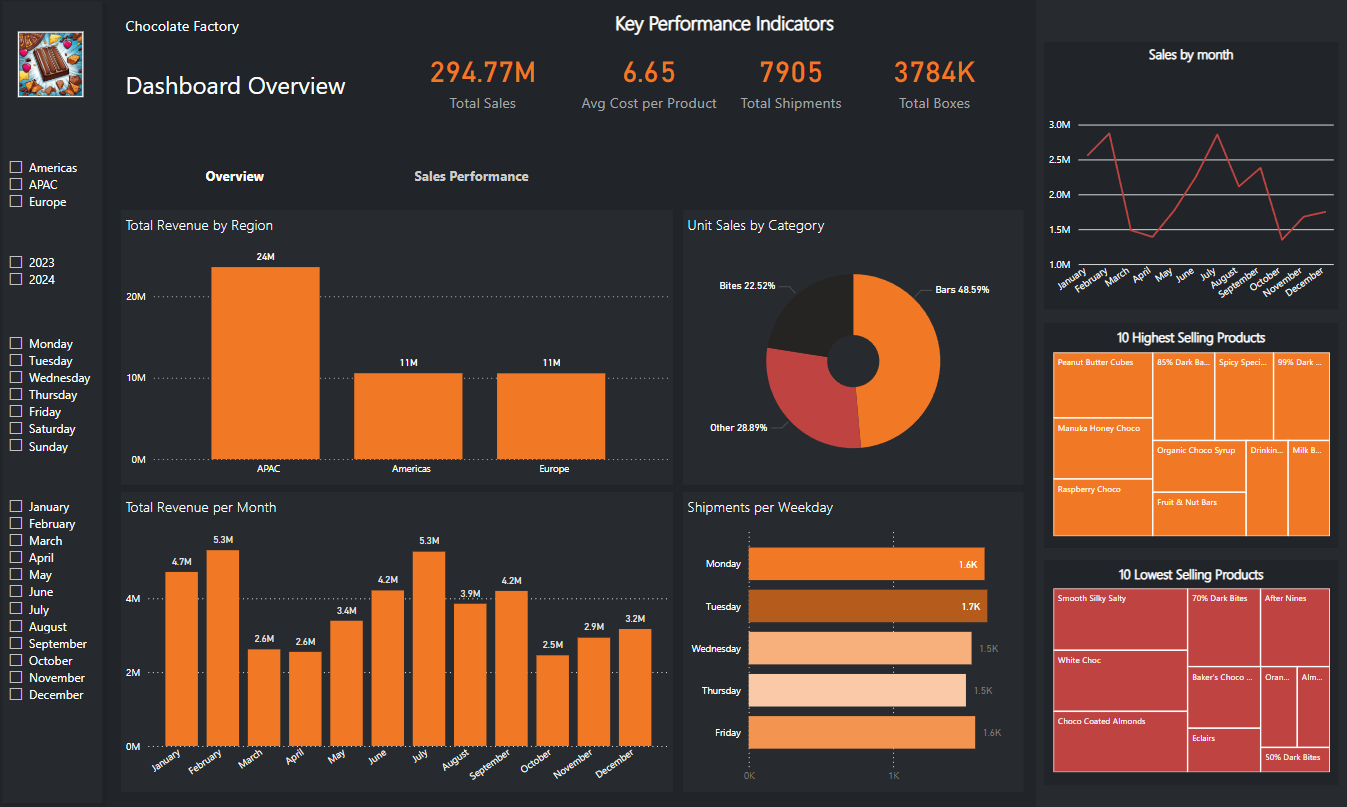

What the dashboard file says about the page in this screenshot:
{"tool":"powerbi","page":{"name":"Overview","canvas":[1500,900],"ordinal":0},"visuals":[{"type":"shape","box":[1153.5,0,346.5,900.5],"z":0},{"type":"shape","box":[0,0,120.8,900.5],"z":1000},{"type":"shape","box":[1162.6,625.8,327.1,249.6],"z":2000},{"type":"shape","box":[1162.6,50.2,327.1,297.5],"z":3000},{"type":"shape","box":[1162.6,361.9,327.1,249.6],"z":4000},{"type":"shape","box":[136.8,550.5,613.2,332.8],"z":5000},{"type":"shape","box":[761.4,550.5,378.4,332.8],"z":6000},{"type":"shape","box":[136.8,237.1,613.2,305.5],"z":7000},{"type":"shape","box":[761.4,237.1,378.4,305.5],"z":8000},{"type":"textbox","box":[136.8,72.9,258.7,86.6],"z":9000},{"type":"pageNavigator","box":[136.8,173.3,517.5,50.2],"z":10000},{"type":"textbox","box":[136.8,237.1,189.2,35.3],"z":11000},{"type":"textbox","box":[136.8,550.5,189.2,33.1],"z":12000},{"type":"textbox","box":[761.4,550.5,190.3,33.1],"z":13000},{"type":"textbox","box":[761.4,237.1,180.1,35.3],"z":14000},{"type":"textbox","box":[1162.6,625.8,327.1,36.5],"z":15000},{"type":"textbox","box":[1162.6,47.9,327.1,43.3],"z":16000},{"type":"textbox","box":[1162.6,362.5,327.1,42.2],"z":17000},{"type":"clusteredColumnChart","fields":{"Y":["calendar.Total Amount"],"Category":["calendar.month_name"]},"box":[136.8,580.2,613.2,303.2],"z":18000},{"type":"lineClusteredColumnComboChart","fields":{"Y":["calendar.Total Amount"],"Category":["locations.Region"]},"box":[136.8,266.7,613.2,275.8],"z":19000},{"type":"card","fields":{"Values":["calendar.Avg Cost per Product"]},"box":[632.6,41,182.4,100.3],"z":20000},{"type":"card","fields":{"Values":["calendar.Total Sales"]},"box":[461.6,41,155,100.3],"z":21000},{"type":"card","fields":{"Values":["calendar.Total Shipments"]},"box":[815,41,133.4,100.3],"z":22000},{"type":"card","fields":{"Values":["calendar.Total Boxes"]},"box":[951.7,41,176.7,100.3],"z":23000},{"type":"donutChart","fields":{"Y":["calendar.Total Sales"],"Category":["products.Category"]},"box":[761.4,266.7,378.4,275.8],"z":24000},{"type":"clusteredBarChart","fields":{"Y":["calendar.Shipments per Weekday"],"Category":["calendar.weekday_name"]},"box":[761.4,580.2,378.4,303.2],"z":25000},{"type":"lineChart","fields":{"Y":["_Measures.Sales by Month"],"Category":["calendar.month_name"]},"box":[1162.6,127.7,327.1,220],"z":26000},{"type":"treemap","fields":{"Group":["products.Product"],"Values":["Sum(shipments.Amount)"]},"box":[1168.3,652,316.9,214.3],"z":27000},{"type":"treemap","fields":{"Group":["products.Product"],"Values":["Sum(shipments.Amount)"]},"box":[1168.3,389.8,316.9,214.3],"z":28000},{"type":"slicer","fields":{"Values":["calendar.month_name"]},"box":[0,550.5,120.8,295.2],"z":29000},{"type":"slicer","fields":{"Values":["locations.Region"]},"box":[0,173.3,120.8,106],"z":30000},{"type":"textbox","box":[673.6,9.1,267.9,41],"z":31000},{"type":"slicer","fields":{"Values":["calendar.weekday_name"]},"box":[0,369.3,120.8,173.3],"z":32000},{"type":"slicer","fields":{"Values":["calendar.year"]},"box":[0,279.3,120.8,80.9],"z":33000},{"type":"image","box":[0,33.1,116.3,83.2],"z":33001},{"type":"textbox","box":[136.8,16,272.4,41],"z":33002}]}

Visuals, with their boxes in screenshot pixels (x1, y1, x2, y2), scaled from the page's 1500x900 canvas onto the 1347x807 screenshot:
shape: detection(1036, 0, 1346, 806)
shape: detection(0, 0, 108, 806)
shape: detection(1044, 561, 1338, 785)
shape: detection(1044, 45, 1338, 312)
shape: detection(1044, 325, 1338, 548)
shape: detection(123, 494, 674, 792)
shape: detection(684, 494, 1024, 792)
shape: detection(123, 213, 674, 487)
shape: detection(684, 213, 1024, 487)
textbox: detection(123, 65, 355, 143)
pageNavigator: detection(123, 155, 588, 200)
textbox: detection(123, 213, 293, 244)
textbox: detection(123, 494, 293, 523)
textbox: detection(684, 494, 855, 523)
textbox: detection(684, 213, 845, 244)
textbox: detection(1044, 561, 1338, 594)
textbox: detection(1044, 43, 1338, 82)
textbox: detection(1044, 325, 1338, 363)
clusteredColumnChart - calendar.Total Amount x calendar.month_name: detection(123, 520, 674, 792)
lineClusteredColumnComboChart - calendar.Total Amount x locations.Region: detection(123, 239, 674, 486)
card - calendar.Avg Cost per Product: detection(568, 37, 732, 127)
card - calendar.Total Sales: detection(415, 37, 554, 127)
card - calendar.Total Shipments: detection(732, 37, 852, 127)
card - calendar.Total Boxes: detection(855, 37, 1013, 127)
donutChart - calendar.Total Sales x products.Category: detection(684, 239, 1024, 486)
clusteredBarChart - calendar.Shipments per Weekday x calendar.weekday_name: detection(684, 520, 1024, 792)
lineChart - _Measures.Sales by Month x calendar.month_name: detection(1044, 115, 1338, 312)
treemap - products.Product x Sum(shipments.Amount): detection(1049, 585, 1334, 777)
treemap - products.Product x Sum(shipments.Amount): detection(1049, 350, 1334, 542)
slicer - calendar.month_name: detection(0, 494, 108, 758)
slicer - locations.Region: detection(0, 155, 108, 250)
textbox: detection(605, 8, 845, 45)
slicer - calendar.weekday_name: detection(0, 331, 108, 487)
slicer - calendar.year: detection(0, 250, 108, 323)
image: detection(0, 30, 104, 104)
textbox: detection(123, 14, 367, 51)
